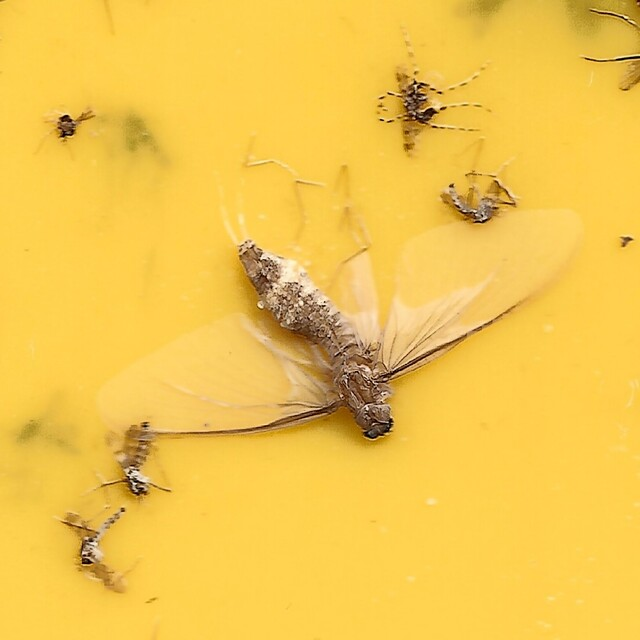Ephemeroptera: (124, 213, 582, 442)
Nematocera: (58, 507, 123, 575), (394, 65, 448, 131), (444, 175, 505, 226), (118, 424, 154, 502)
